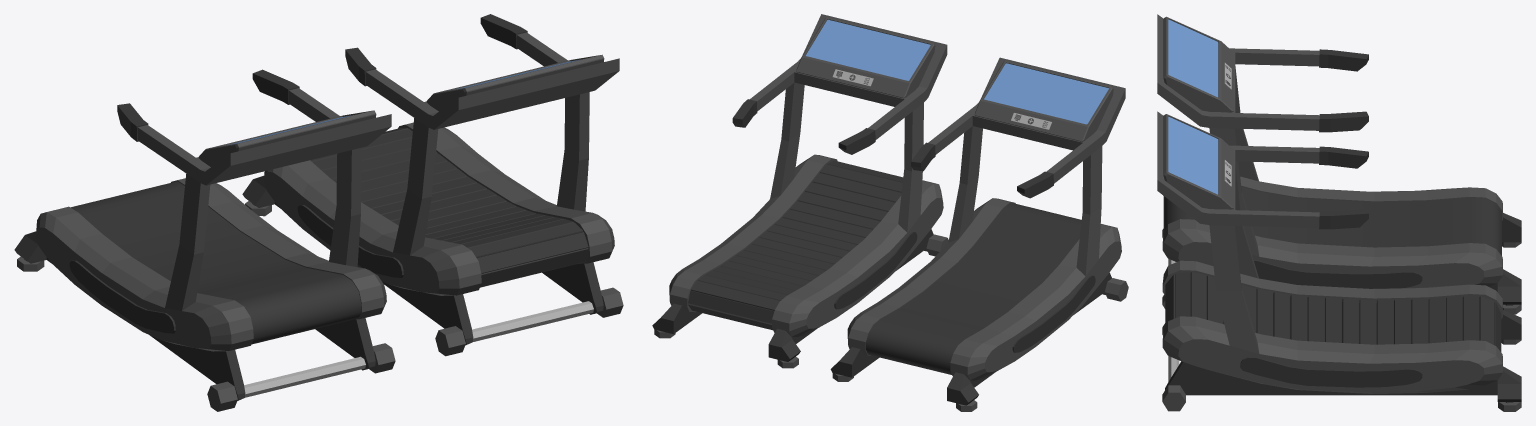
The model's file is Curved_Treadmill.fbx.
3 views of the same model, side by side, from view 1: azimuth 30°, elevation 25°; view 2: azimuth 150°, elevation 25°; view 3: azimuth 270°, elevation 25° (orthographic). The views are drawn at different scales.
Parts seen in each view (by area): view 1: Cube.000, Cube.029; view 2: Cube.000, Cube.029; view 3: Cube.029, Cube.000.
Boxes of the visible parts, x1,y1,x2,y2 form: Cube.000: (14, 69, 395, 411); Cube.029: (242, 14, 623, 356); Cube.000: (830, 57, 1128, 411); Cube.029: (652, 14, 948, 368); Cube.029: (1157, 111, 1521, 411); Cube.000: (1157, 14, 1521, 314).
Bounding box in the file's own units: 107 × 66.51 × 95.11.
